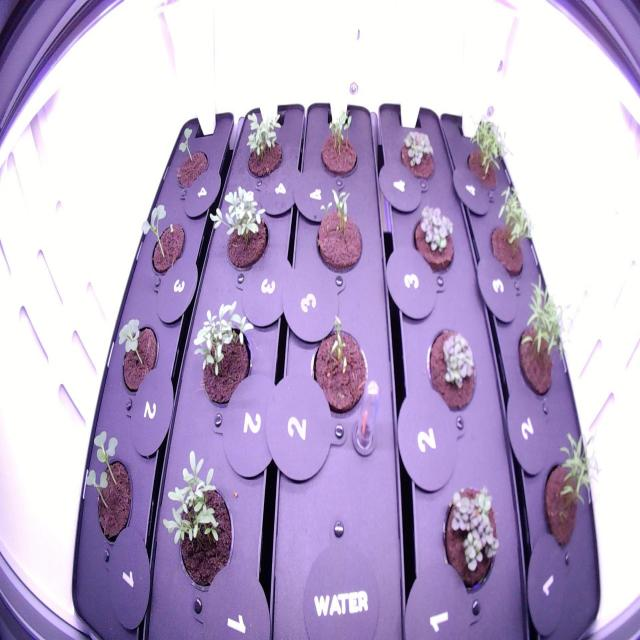germination: (158, 437, 241, 596), (538, 418, 606, 560), (513, 272, 584, 400), (437, 474, 503, 602), (303, 309, 375, 426), (191, 295, 258, 420), (78, 428, 139, 548), (207, 182, 274, 276), (423, 319, 482, 423), (486, 180, 538, 288), (308, 179, 365, 277), (462, 103, 510, 202), (110, 310, 162, 400), (138, 198, 188, 285), (310, 103, 362, 183), (409, 199, 460, 280), (240, 104, 288, 187), (170, 121, 214, 193), (393, 125, 441, 187)
